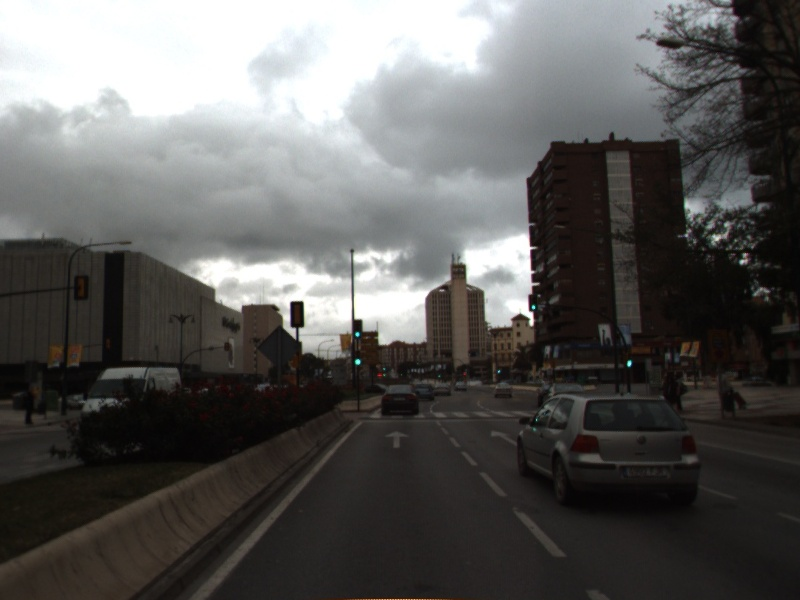STRAIGHT: (382, 428, 412, 450), (489, 428, 519, 448)
